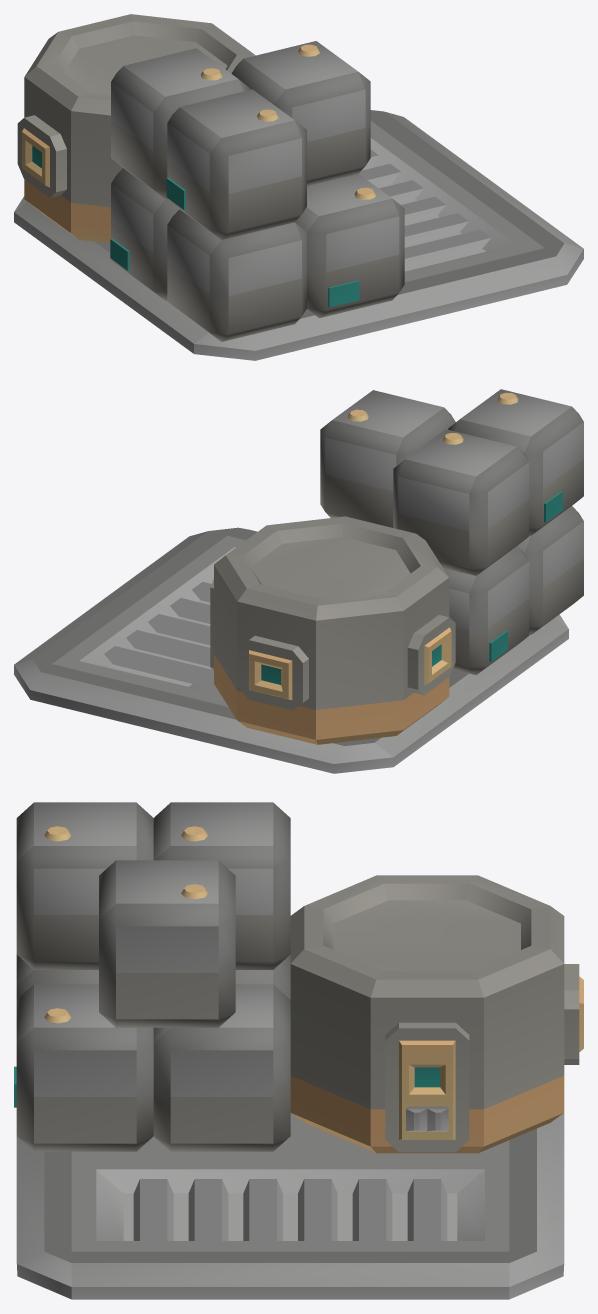
File: fabricator.glb
3 renders of one model, top to bottom at view 1: azimuth 30°, elevation 25°; view 2: azimuth 150°, elevation 25°; view 3: azimuth 270°, elevation 25°, orthographic. The views are drawn at different scales.
Bounding box in the file's own units: 2.07 × 1.12 × 2.08.
